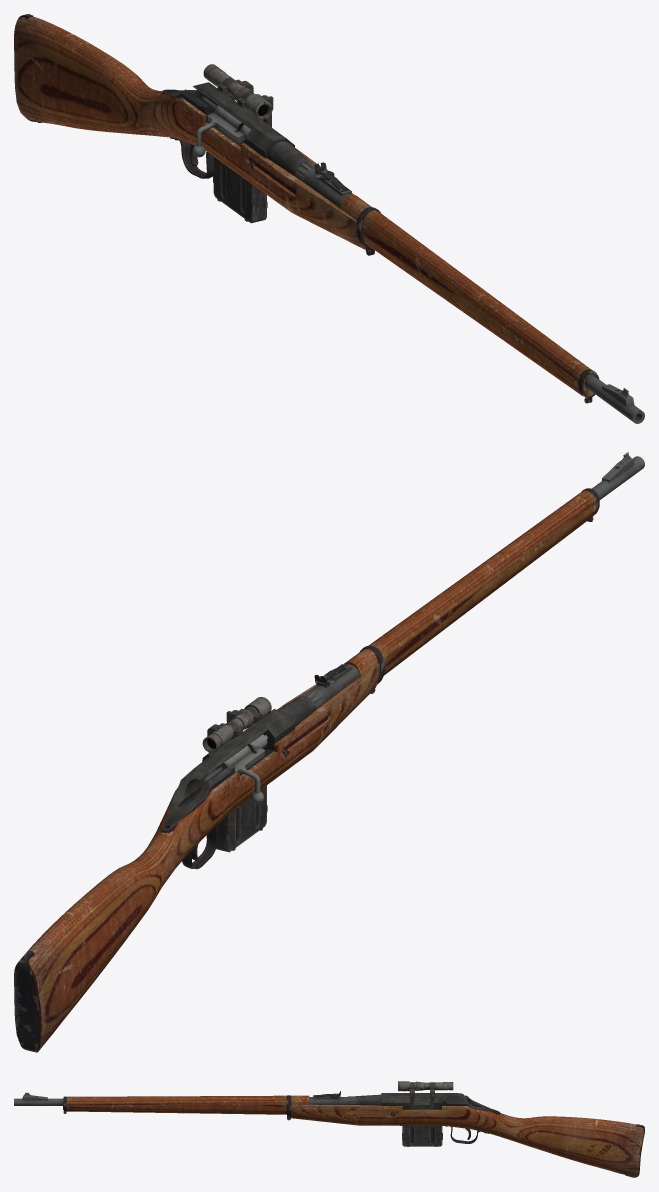
File: sniper.glb
3 views of the same model, one above another, from view 1: azimuth 30°, elevation 25°; view 2: azimuth 150°, elevation 25°; view 3: azimuth 270°, elevation 25° (orthographic). The views are drawn at different scales.
Parts seen in each view (by area): view 1: sniper; view 2: sniper; view 3: sniper.
Part boxes in pixels (x1,y1,x2,y2): sniper: (14,14,644,423); sniper: (14,452,644,1052); sniper: (14,1081,644,1177).
Size of the model in its own units: 0.0666 by 0.2045 by 1.23.
3 materials, 3 textured.
